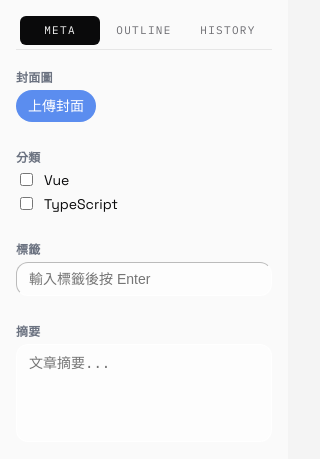
Test case: EditorMetaSidebar › 渲染 › 標籤建議不顯示未知數量的 0
Type "Vi" into the field with placeholder "輸入標籤後按 Enter" at (144, 279), box [16,262,272,296]
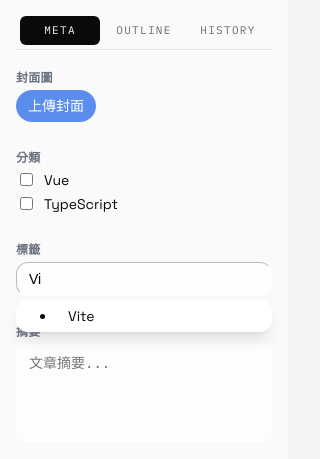
Now the list item "Vite" is shown, box [68,307,95,325]
